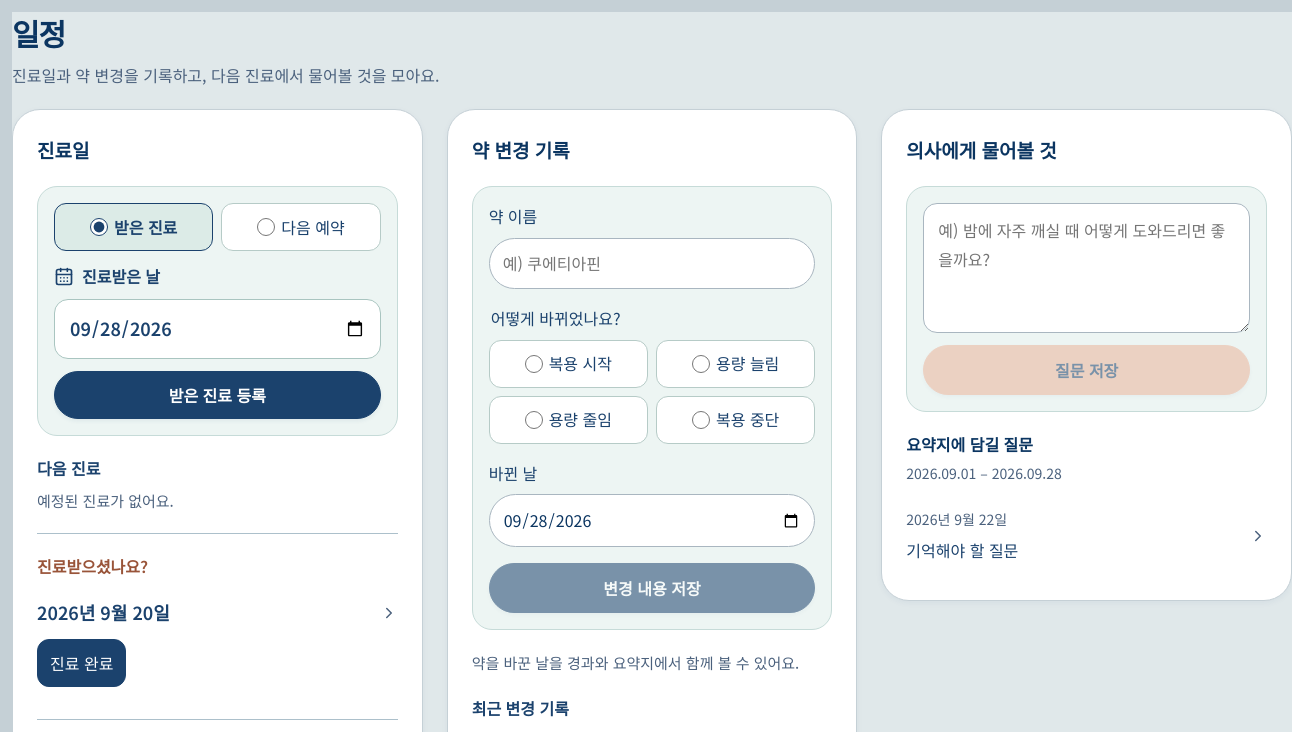
Test case: 받은 진료와 다음 예약을 바꾸면 새 선택 범위를 벗어난 날짜만 비운다
This screenshot has width=1292, height=732.
Step 1. Type "2026-09-27" into the date field labelled "진료받은 날" → x=217, y=329, box top-left (54, 299), bottom-right (381, 359)
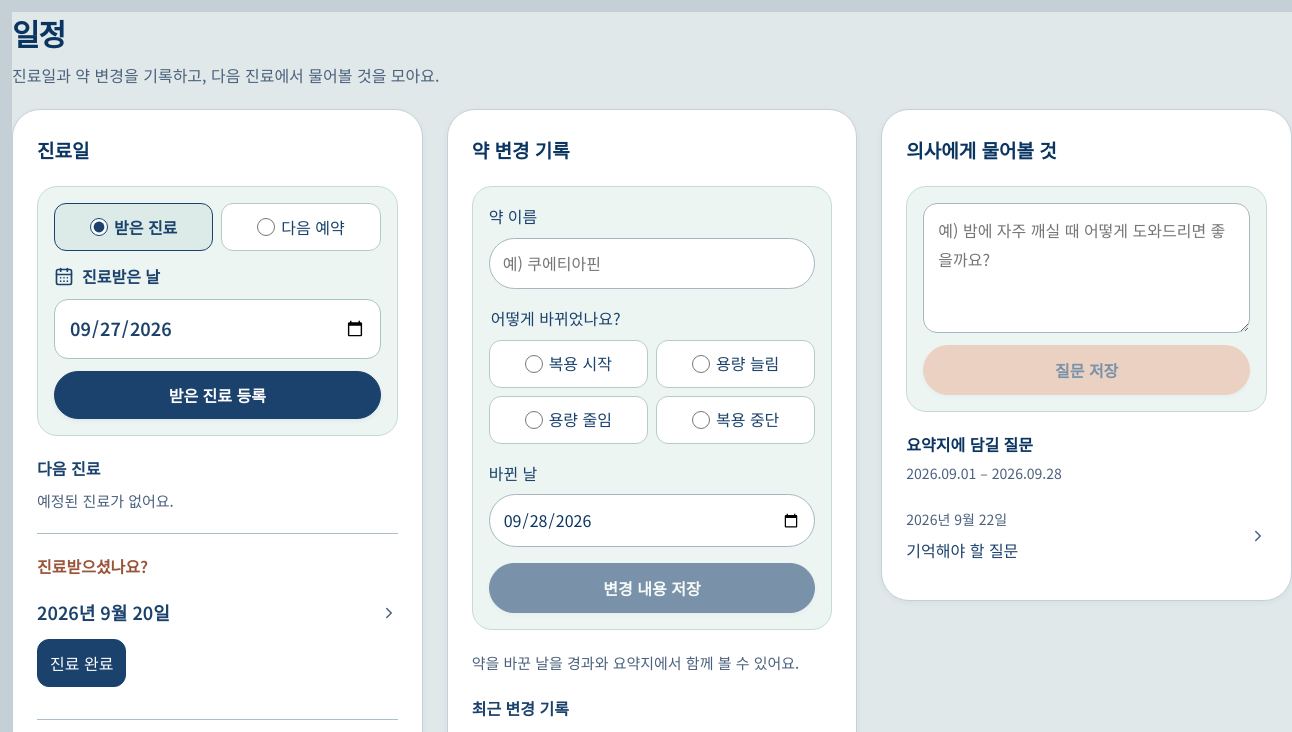
Step 2. Click the radio button labelled "다음 예약" → x=266, y=228, box top-left (257, 218), bottom-right (275, 236)
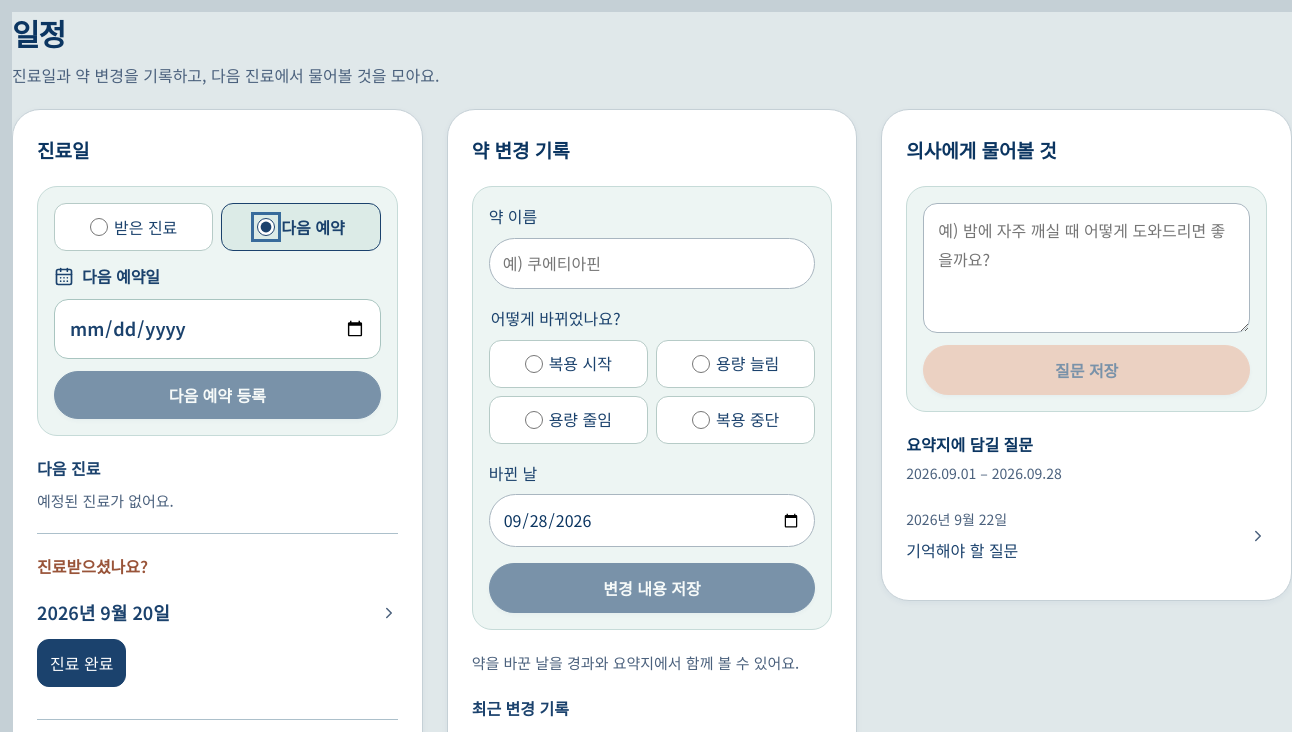
Expected: the date field labelled "다음 예약일" is empty
Expected: the button "다음 예약 등록" is disabled, top-left (54, 371), bottom-right (381, 419)
Step 3. Type "2026-09-29" into the date field labelled "다음 예약일" → x=217, y=329, box top-left (54, 299), bottom-right (381, 359)
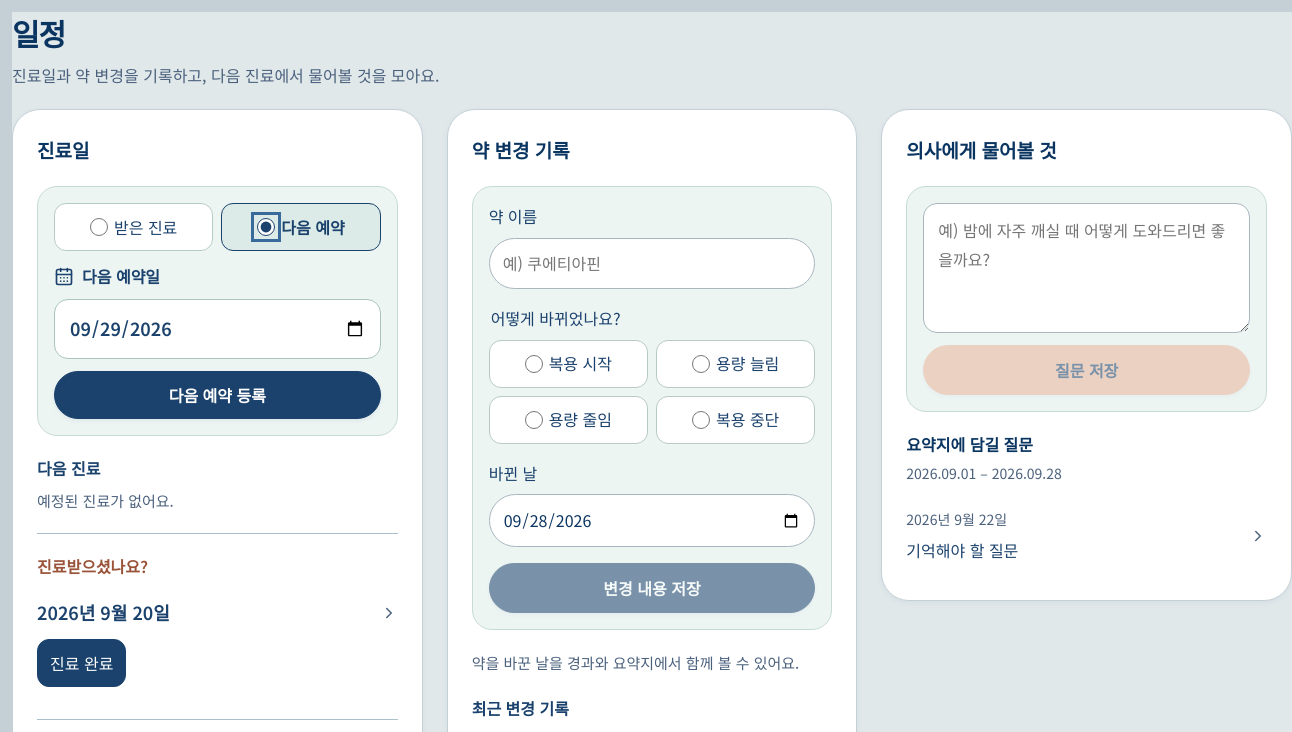
Step 4. Click the radio button labelled "받은 진료" → x=99, y=228, box top-left (90, 218), bottom-right (108, 236)
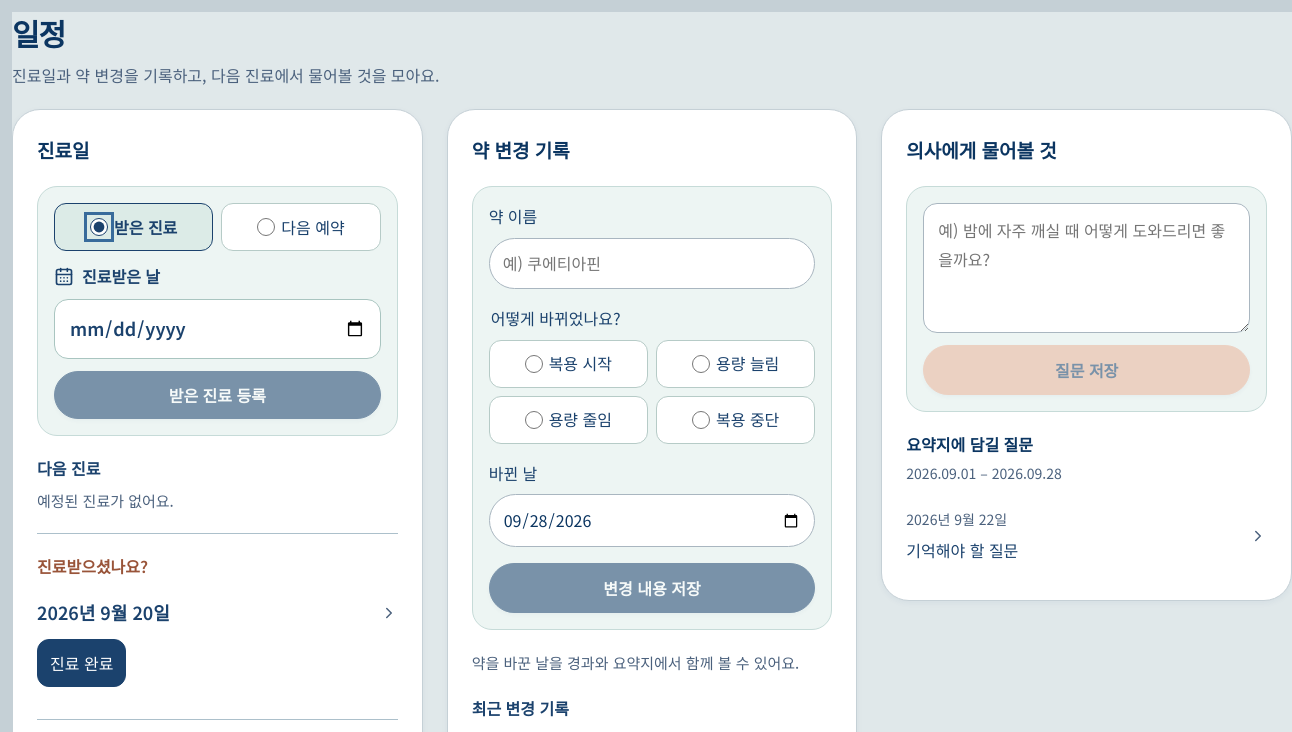
Expected: the date field labelled "진료받은 날" is empty, top-left (54, 299), bottom-right (381, 359)
Expected: the button "받은 진료 등록" is disabled, top-left (54, 371), bottom-right (381, 419)
